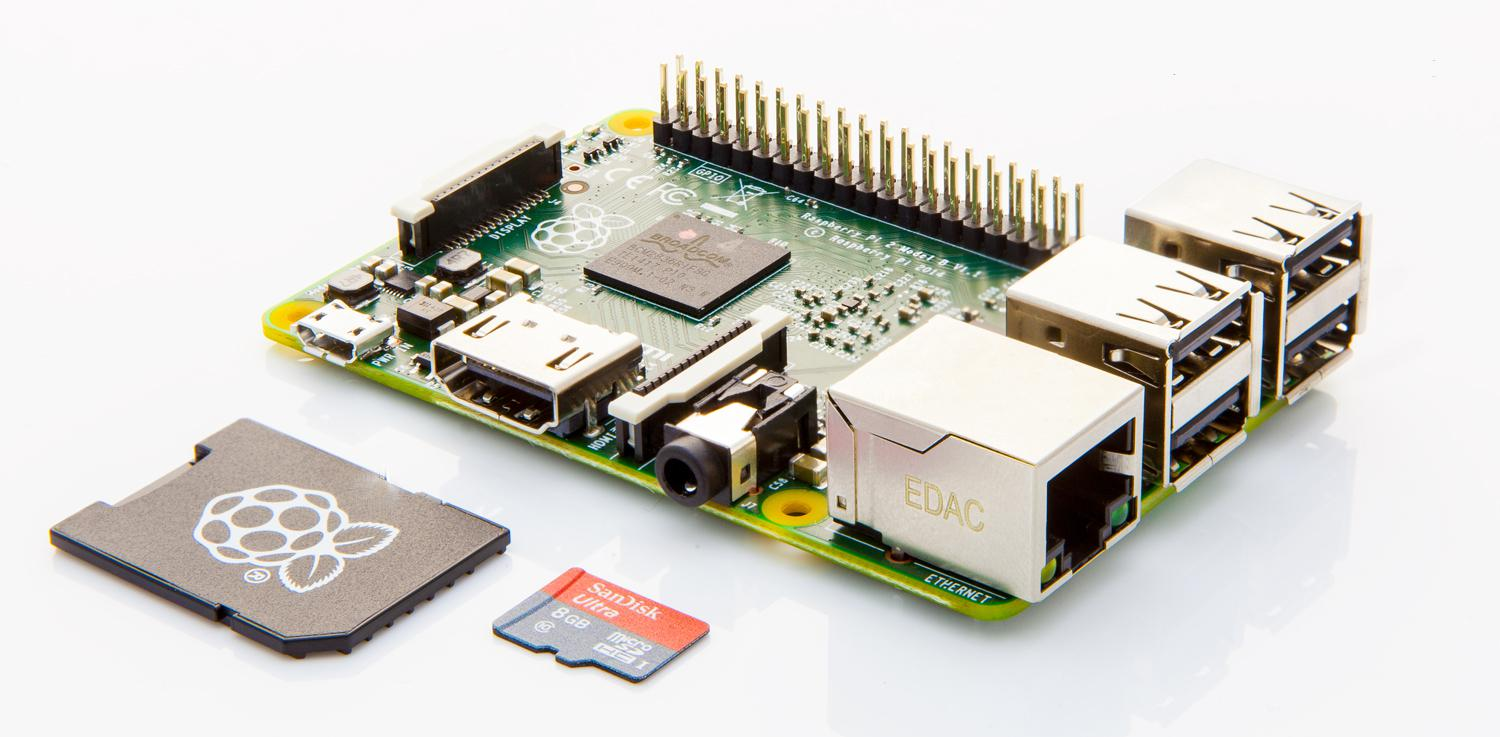audiojack: (648, 359, 822, 513)
bchi: (599, 213, 798, 309)
ethernet: (818, 309, 1146, 595)
gpio: (652, 64, 1091, 250)
usb: (1009, 229, 1268, 492), (1128, 158, 1369, 396)
